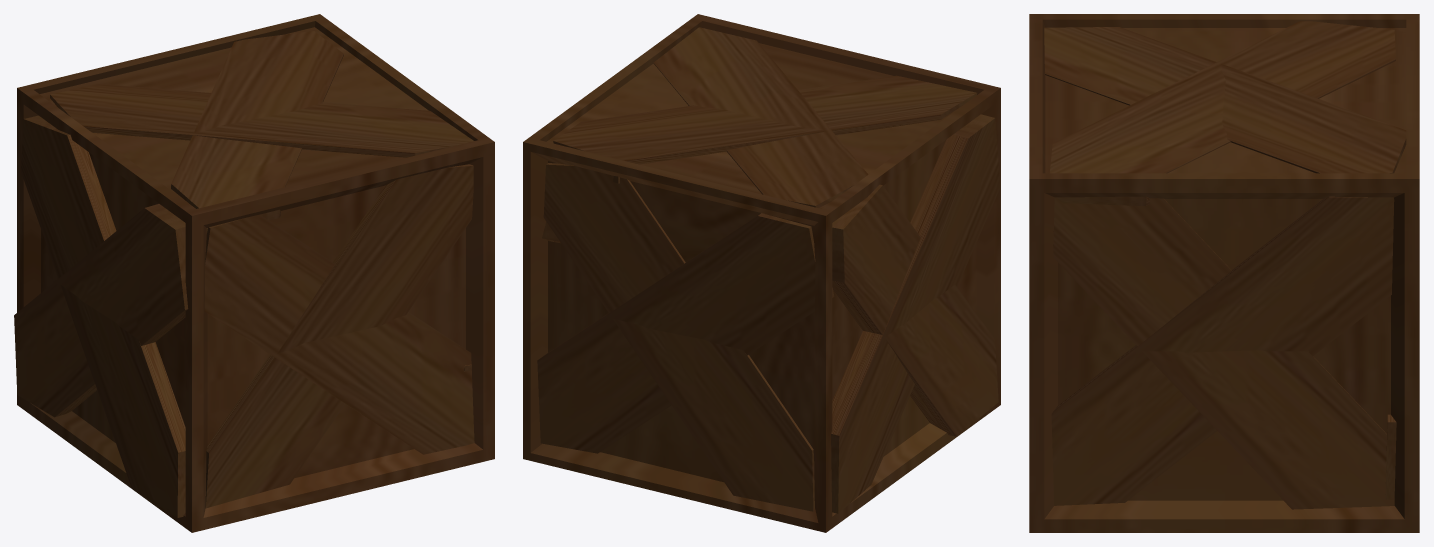
File: Caisse.fbx
3 views of the same model, side by side, from view 1: azimuth 30°, elevation 25°; view 2: azimuth 150°, elevation 25°; view 3: azimuth 270°, elevation 25° (orthographic). The views are drawn at different scales.
Parts seen in each view (by area): view 1: CaisseBasic; view 2: CaisseBasic; view 3: CaisseBasic.
Boxes of the visible parts, bbox=[...] form: CaisseBasic: bbox=[14, 14, 494, 532]; CaisseBasic: bbox=[523, 14, 1000, 532]; CaisseBasic: bbox=[1029, 14, 1419, 532].
Bounding box in the file's own units: 205 × 200 × 200.
